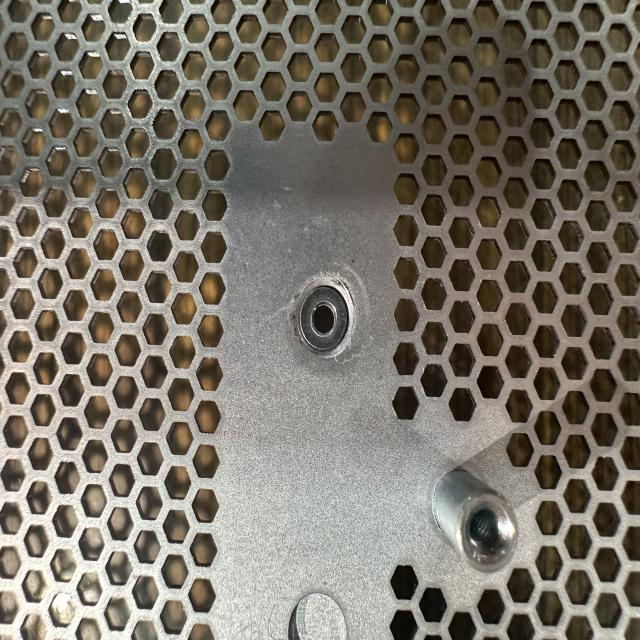Missing screw: (287, 270, 362, 366)
